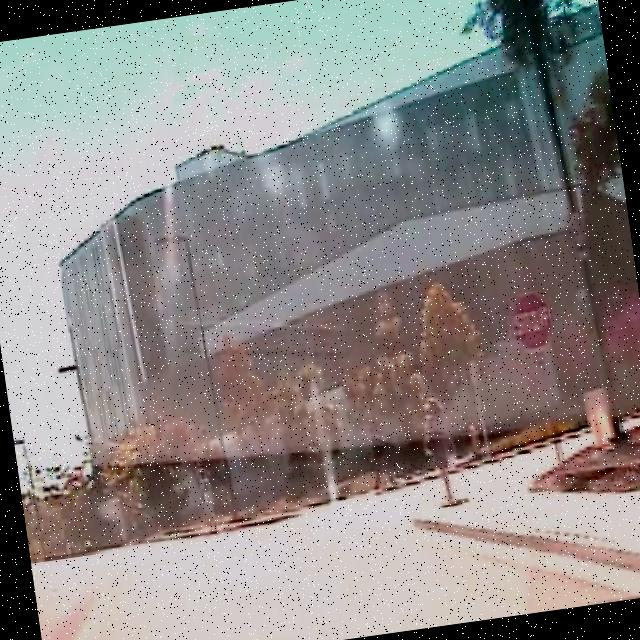Stop: (504, 289, 558, 356)
